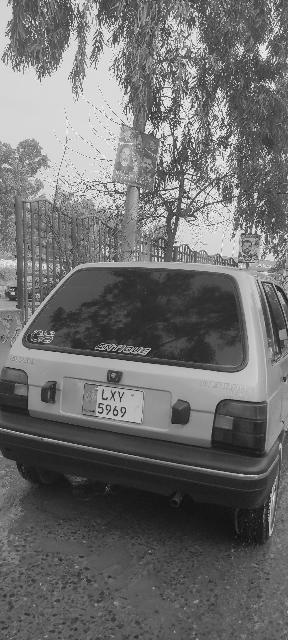Number: (98, 387, 128, 419)
